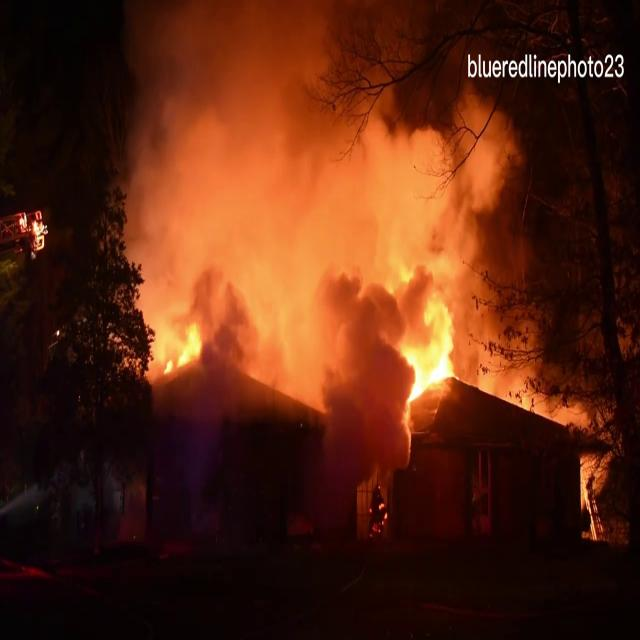Fire: (137, 135, 537, 420)
Smoke: (117, 0, 450, 269)
